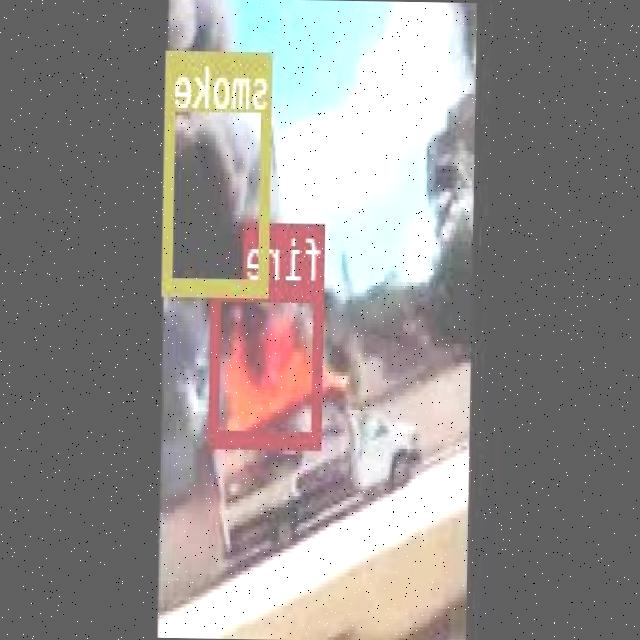fire: (212, 280, 325, 445)
smoke: (165, 49, 272, 293)
